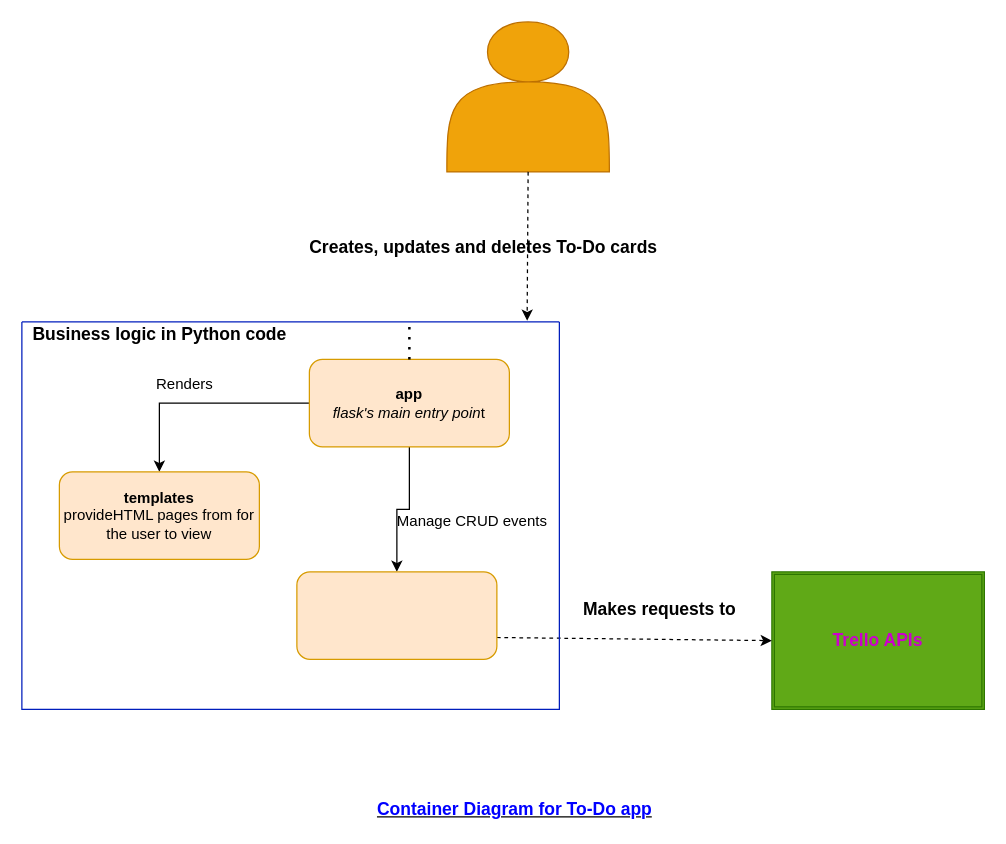
Image size: 1006x844. Some labels were removed from this diagram. The centre of each missing label's shape, as x and y in pixels:
"End User wants to maintain To-Do task cards" belongs at pixel 527 96.
"trello facade for calling external trello apis" belongs at pixel 396 615.
